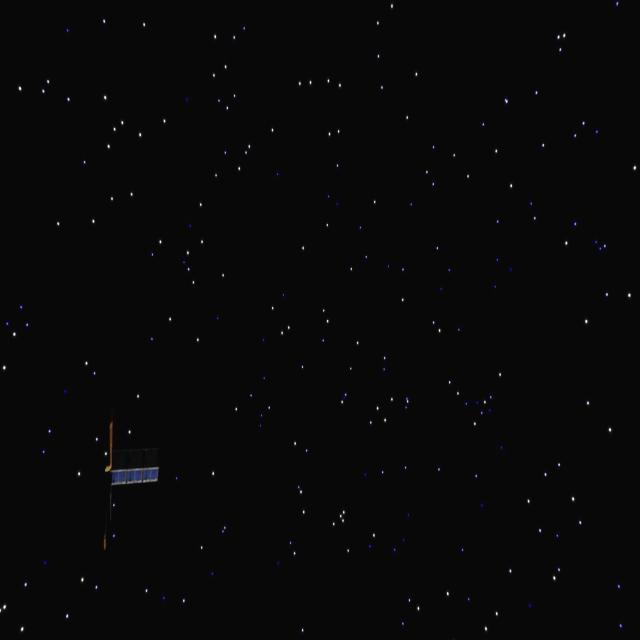satellite: (96, 413, 160, 561)
